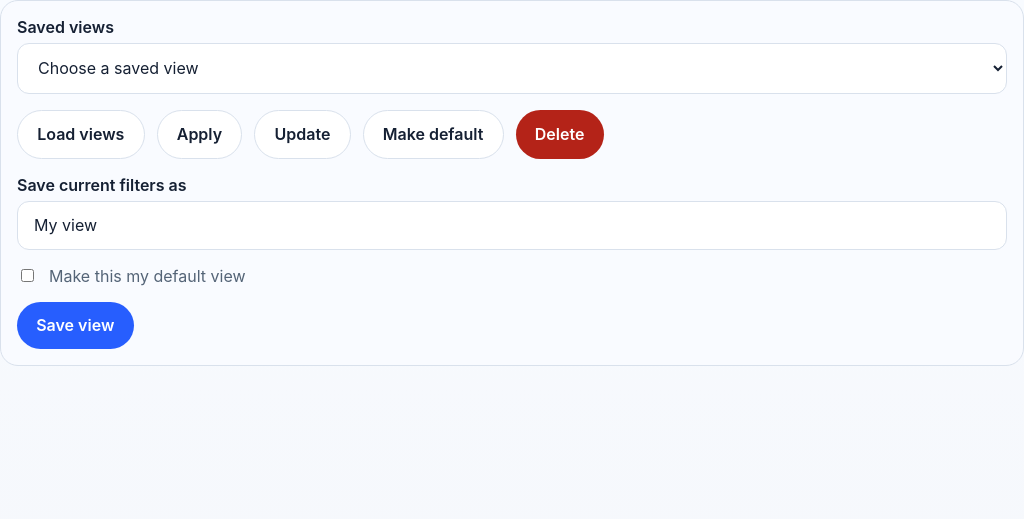
Scenario: SavedViews › completes catalog loads under the application StrictMode lifecycle
The image size is (1024, 519).
Click the button "Load views" at (81, 134), box top-left (17, 110), bottom-right (144, 159)
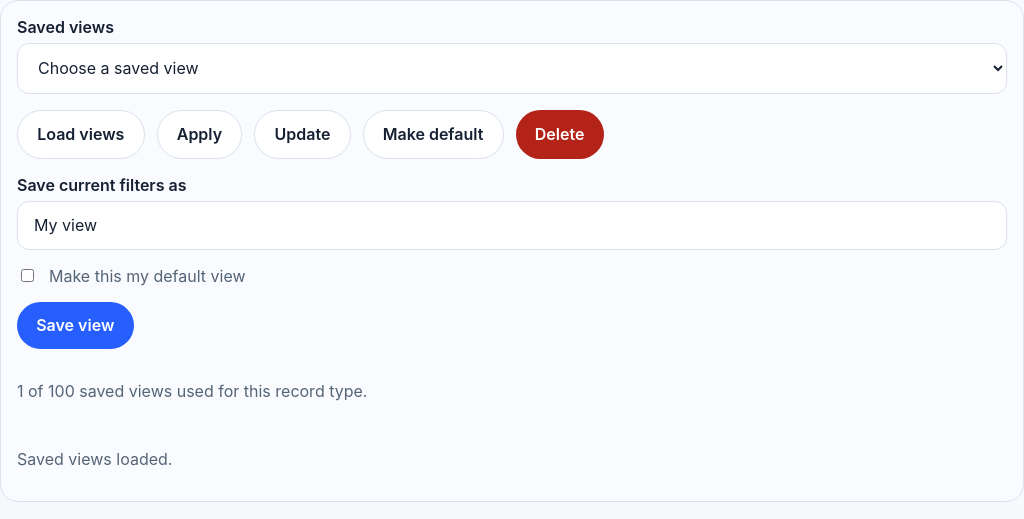
Expected: the text "Saved views loaded." is shown, top-left (17, 449), bottom-right (172, 469)
